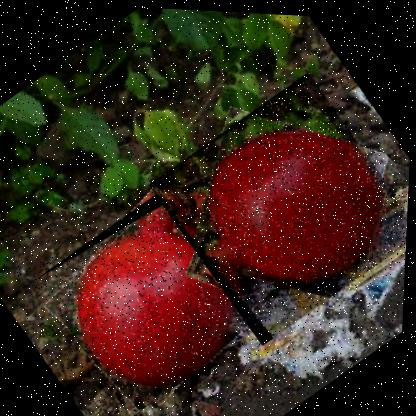pomegranate: (143, 59, 413, 348), (31, 169, 283, 415)
